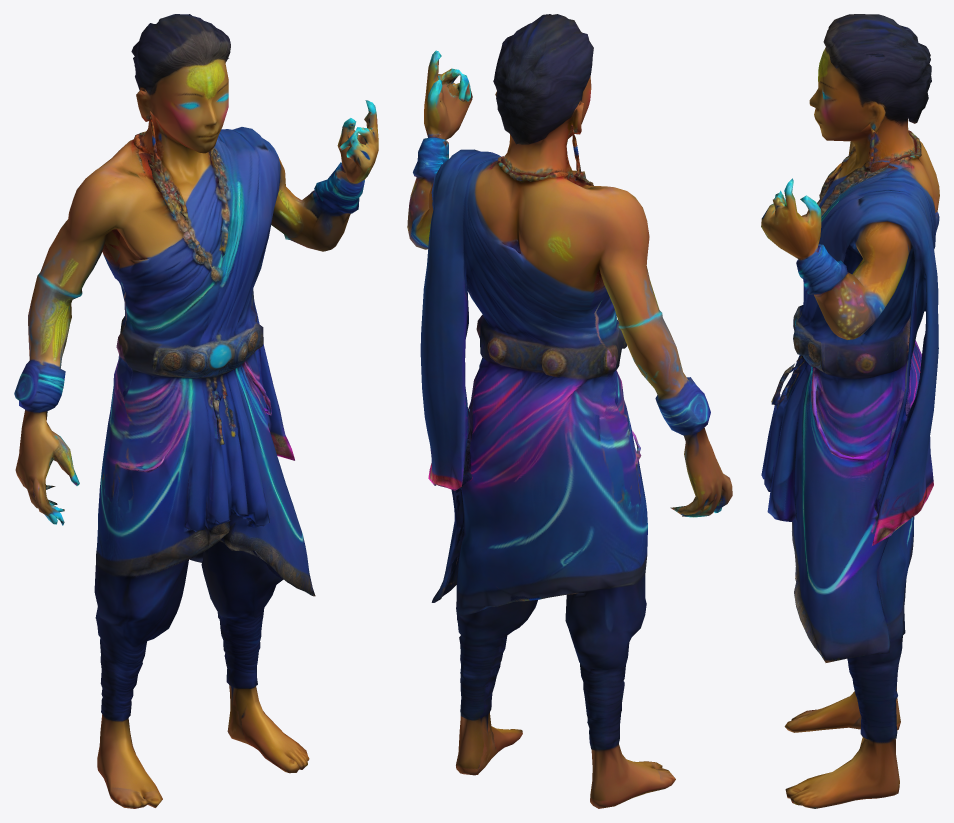
Rendered from modelo54.glb.
The picture shows the model from 3 angles, left to right: view 1: azimuth 30°, elevation 25°; view 2: azimuth 150°, elevation 25°; view 3: azimuth 270°, elevation 25°; orthographic projection. The views are drawn at different scales.
Size of the model in its own units: 0.8953 by 2 by 0.4326.
1 material, 1 textured.
